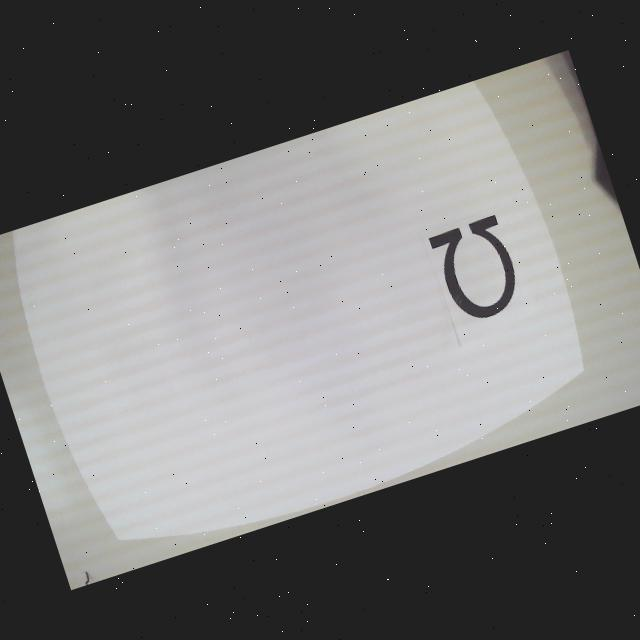OMEGA: (428, 212, 526, 328)
